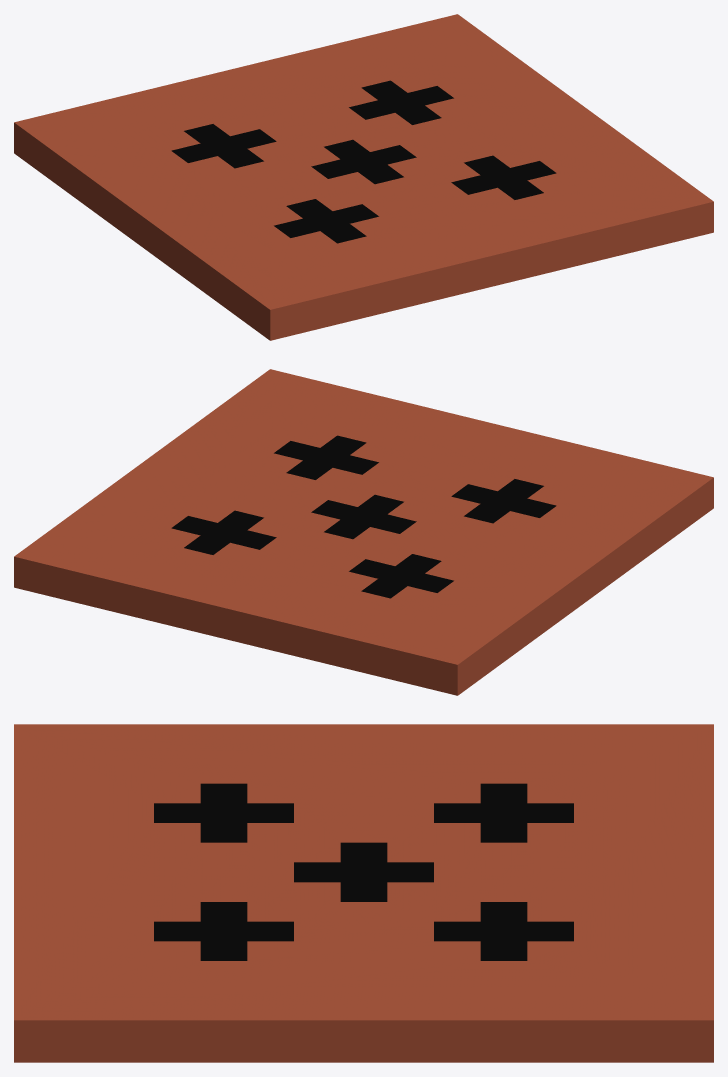
Rendered from dungeon_b_b_ground_a_b.obj.
3 renders of one model, top to bottom at view 1: azimuth 30°, elevation 25°; view 2: azimuth 150°, elevation 25°; view 3: azimuth 270°, elevation 25°, orthographic. The views are drawn at different scales.
Size of the model in its own units: 1.5 by 0.1 by 1.5.
1 material, 1 textured.
